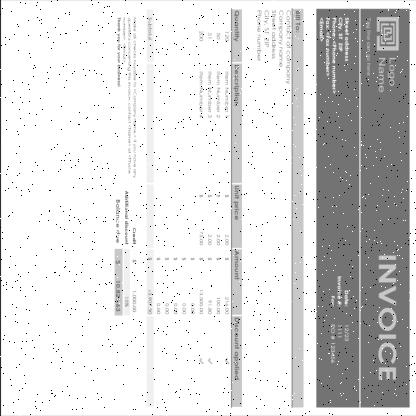Paragraph: (253, 5, 303, 86), (114, 15, 138, 180), (113, 188, 138, 315), (375, 253, 398, 383), (317, 13, 350, 96), (328, 273, 350, 366), (363, 15, 371, 79)
Table: (145, 10, 242, 408)
